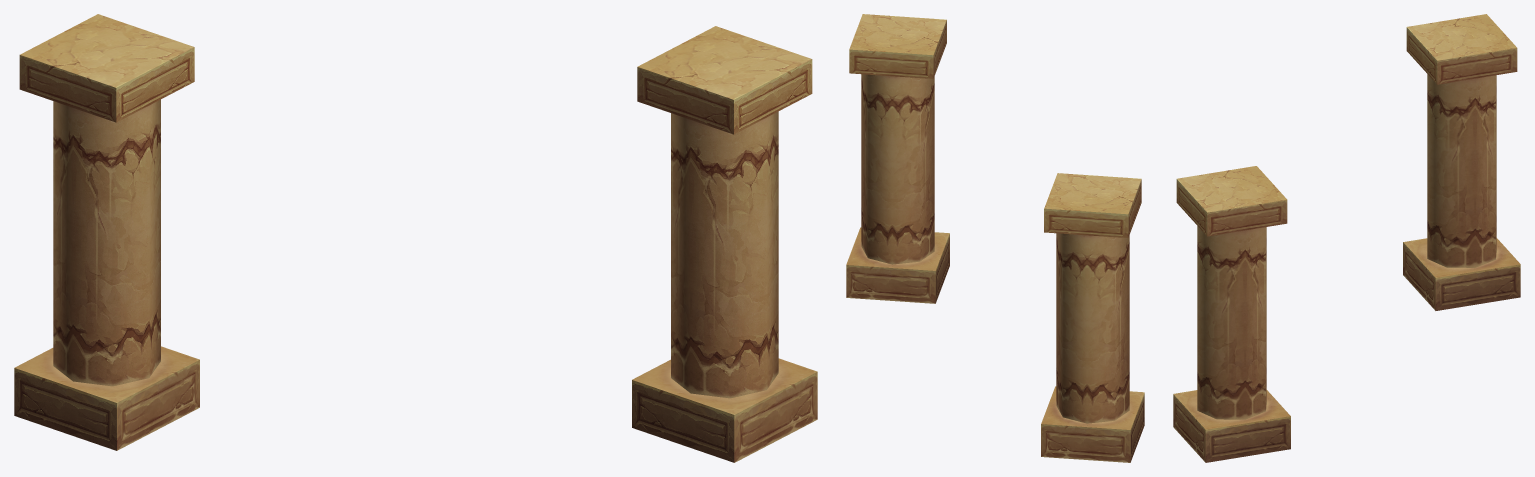
The model's file is Area_11_19.fbx.
The picture shows the model from 3 angles, left to right: view 1: azimuth 30°, elevation 25°; view 2: azimuth 150°, elevation 25°; view 3: azimuth 270°, elevation 25°; orthographic projection. The views are drawn at different scales.
Parts seen in each view (by area): view 1: Area_11_19; view 2: Area_11_19; view 3: Area_11_19.
Boxes of the visible parts, box(x1,y1,x2,y2) form: Area_11_19: box(14, 14, 817, 462); Area_11_19: box(846, 14, 1144, 462); Area_11_19: box(1173, 14, 1520, 462).
Bounding box in the file's own units: 1495 × 861 × 1090.
